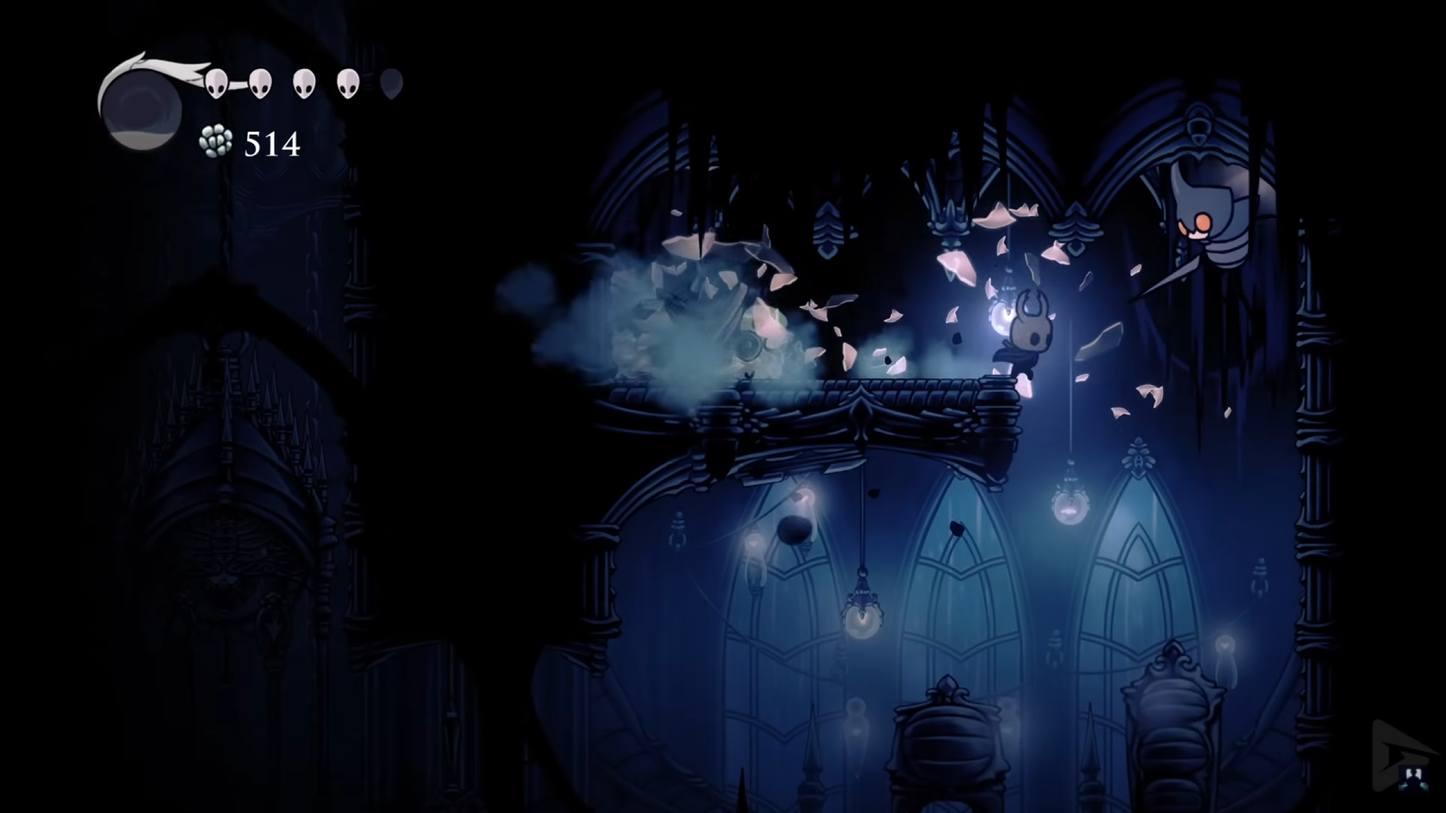HK: (993, 291, 1062, 383)
